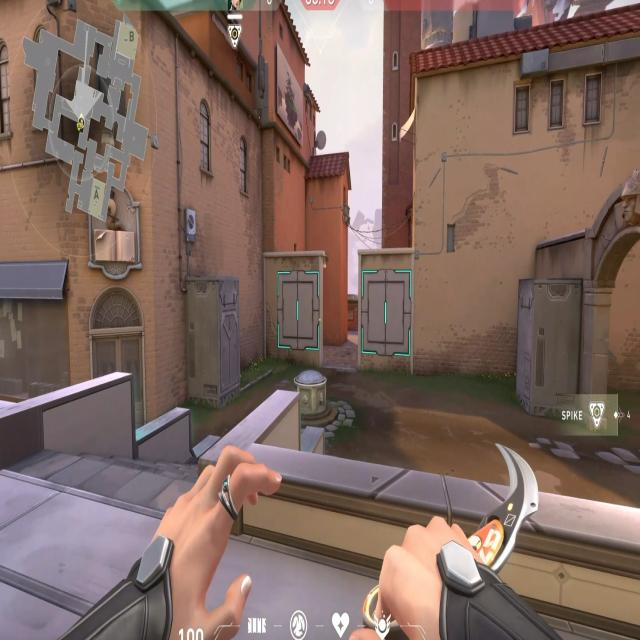Mid_Wall: (356, 246, 418, 374), (270, 246, 329, 374)
